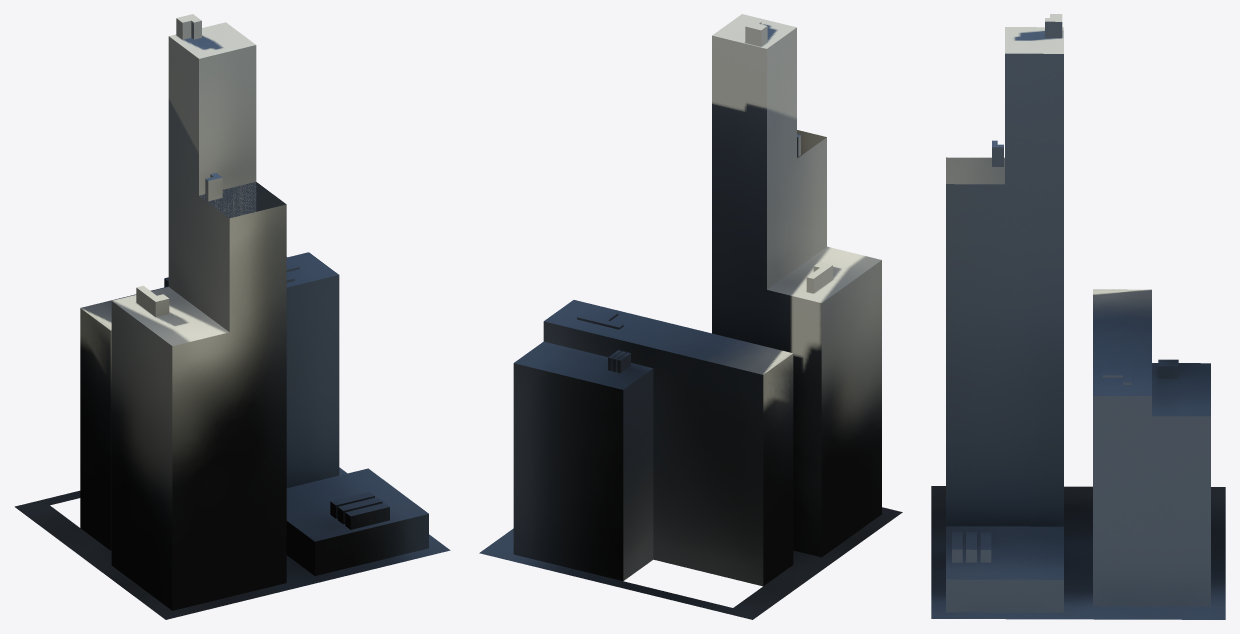
Rendered from fix107.DAE.
3 renders of one model, left to right at view 1: azimuth 30°, elevation 25°; view 2: azimuth 150°, elevation 25°; view 3: azimuth 270°, elevation 25°, orthographic. The views are drawn at different scales.
Parts seen in each view (by area): view 1: Object107; view 2: Object107; view 3: Object107.
Boxes of the visible parts, bbox=[...] form: Object107: bbox=[14, 14, 450, 619]; Object107: bbox=[479, 14, 902, 619]; Object107: bbox=[931, 14, 1225, 619].
Size of the model in its own units: 1.29 by 2.29 by 1.2.
